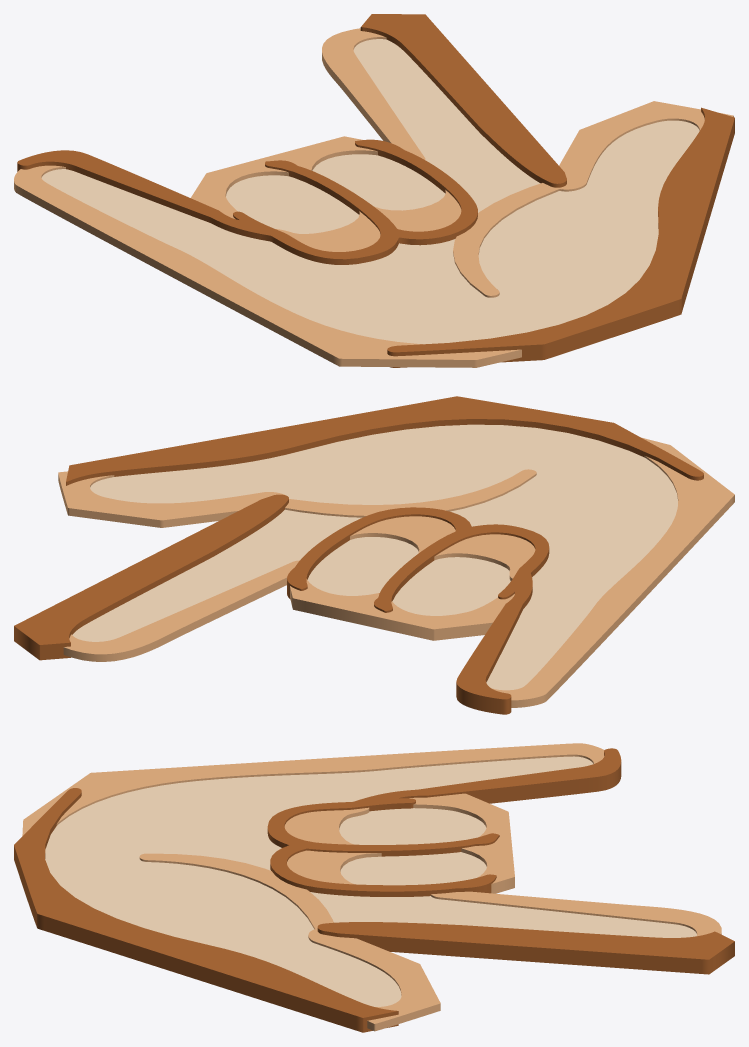
Rendered from emoji_u1f91f_1f3fb.glb.
3 renders of one model, top to bottom at view 1: azimuth 30°, elevation 25°; view 2: azimuth 150°, elevation 25°; view 3: azimuth 270°, elevation 25°, orthographic. The views are drawn at different scales.
Visible parts, largest first — view 1: emoji_u1f91f_1f3fb; view 2: emoji_u1f91f_1f3fb; view 3: emoji_u1f91f_1f3fb.
Part boxes in pixels (x1,y1,x2,y2): emoji_u1f91f_1f3fb: (14, 14, 734, 367); emoji_u1f91f_1f3fb: (14, 396, 734, 714); emoji_u1f91f_1f3fb: (14, 743, 734, 1032).
Size of the model in its own units: 0.0326 by 0.0008 by 0.0353.
